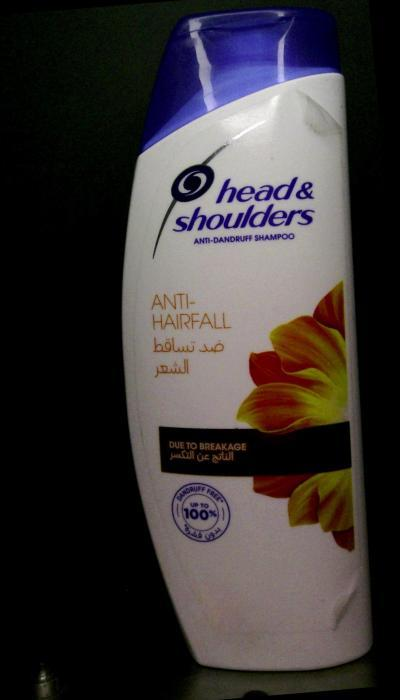adhesion_unacc: (292, 83, 346, 152), (312, 566, 362, 634)
